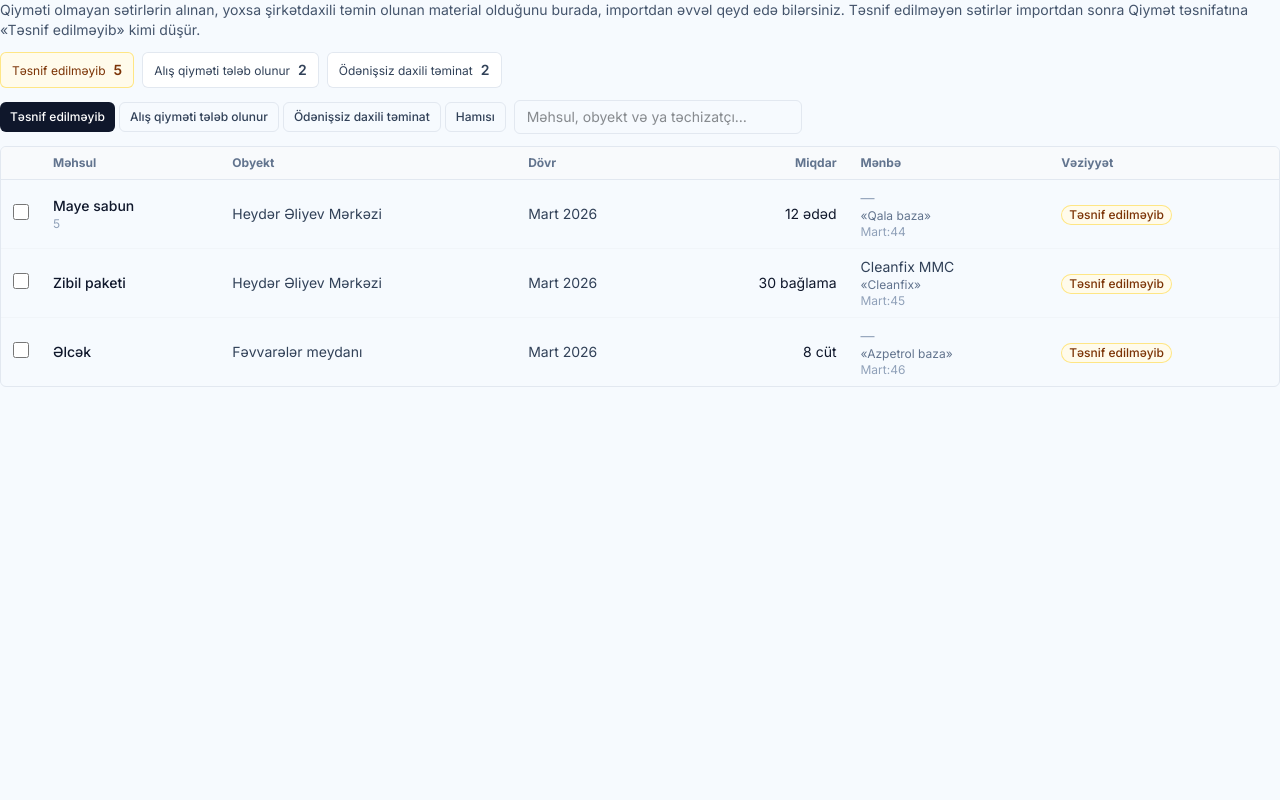
classifying › sends «Alış qiyməti tələb olunur» for the rows it names
Expected: the text "Maye sabun" is shown, [53,197,134,214]
Click the checkbox named "Zibil paketi · Heydər Əliyev Mərkəzi · Mart 2026".
click(21, 280)  # box [13,272,29,288]
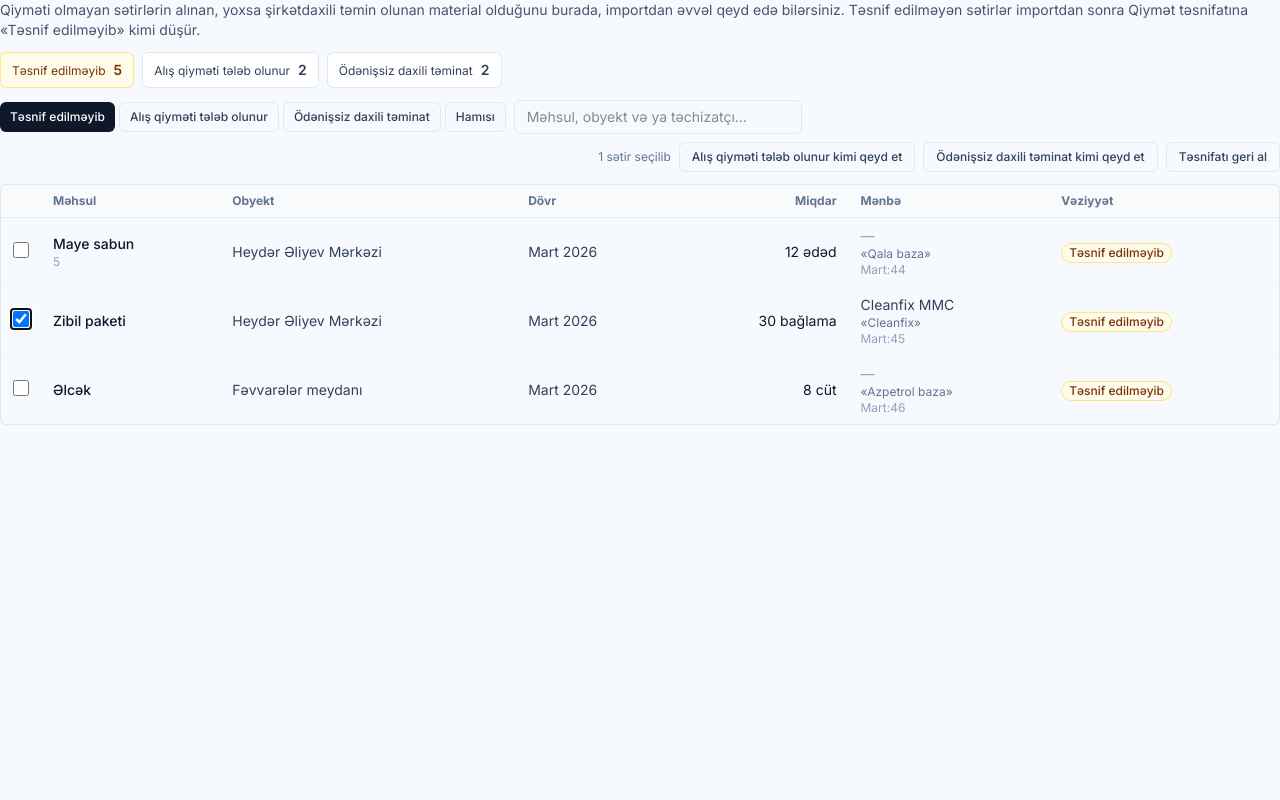
Click the button "Alış qiyməti tələb olunur kimi qeyd et".
click(797, 157)  # box [679,142,915,172]
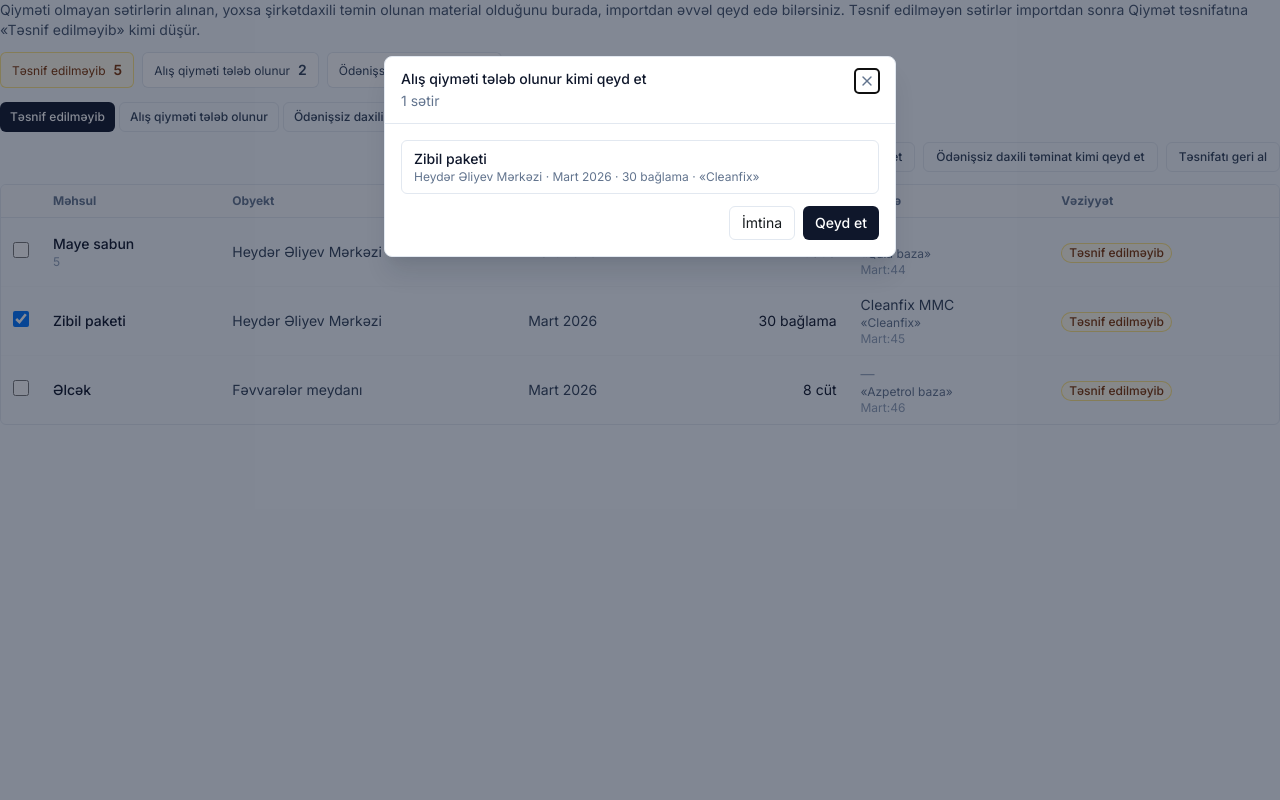
Result: the text "Zibil paketi" is shown at [414,150,487,167]
Click the button "Qeyd et".
click(841, 223)  # box [803,206,879,240]
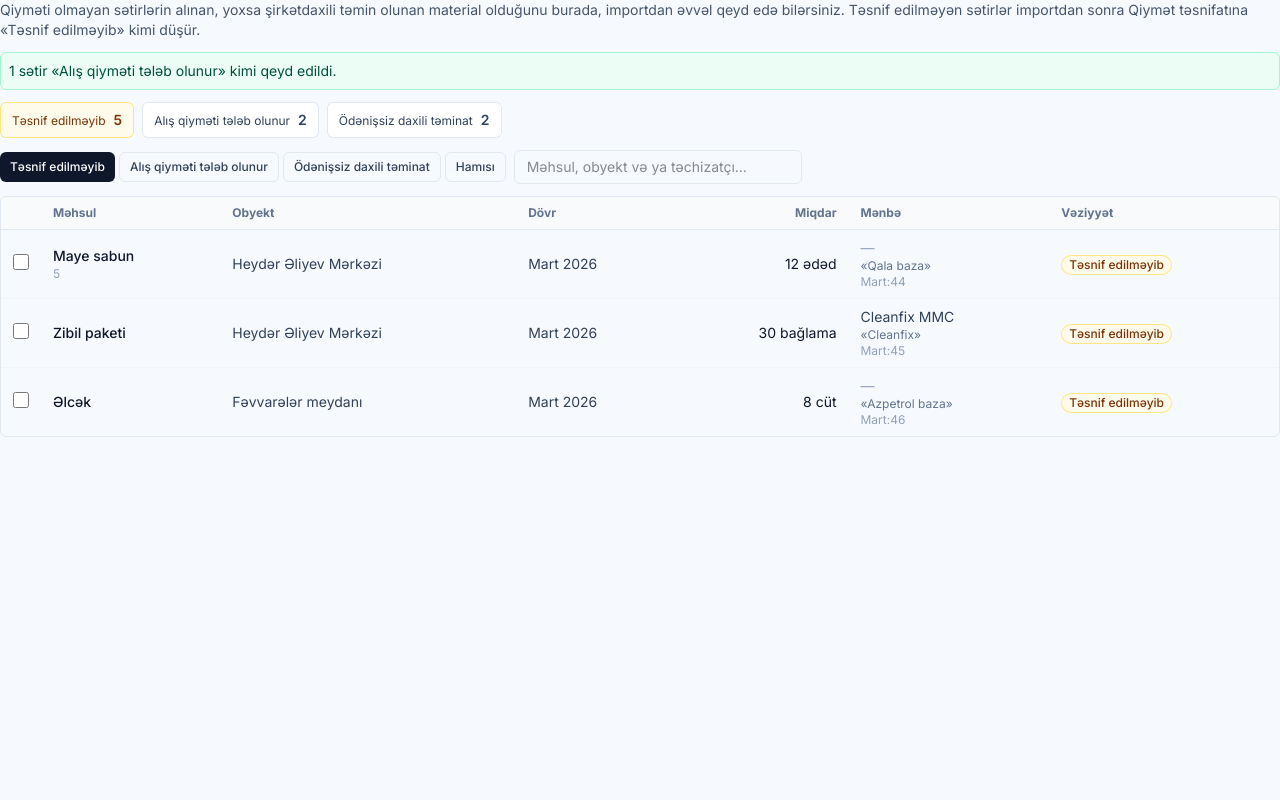
Result: the text "1 sətir «Alış qiyməti tələb olunur» kimi qeyd edildi." is shown at [0,52,1279,90]
